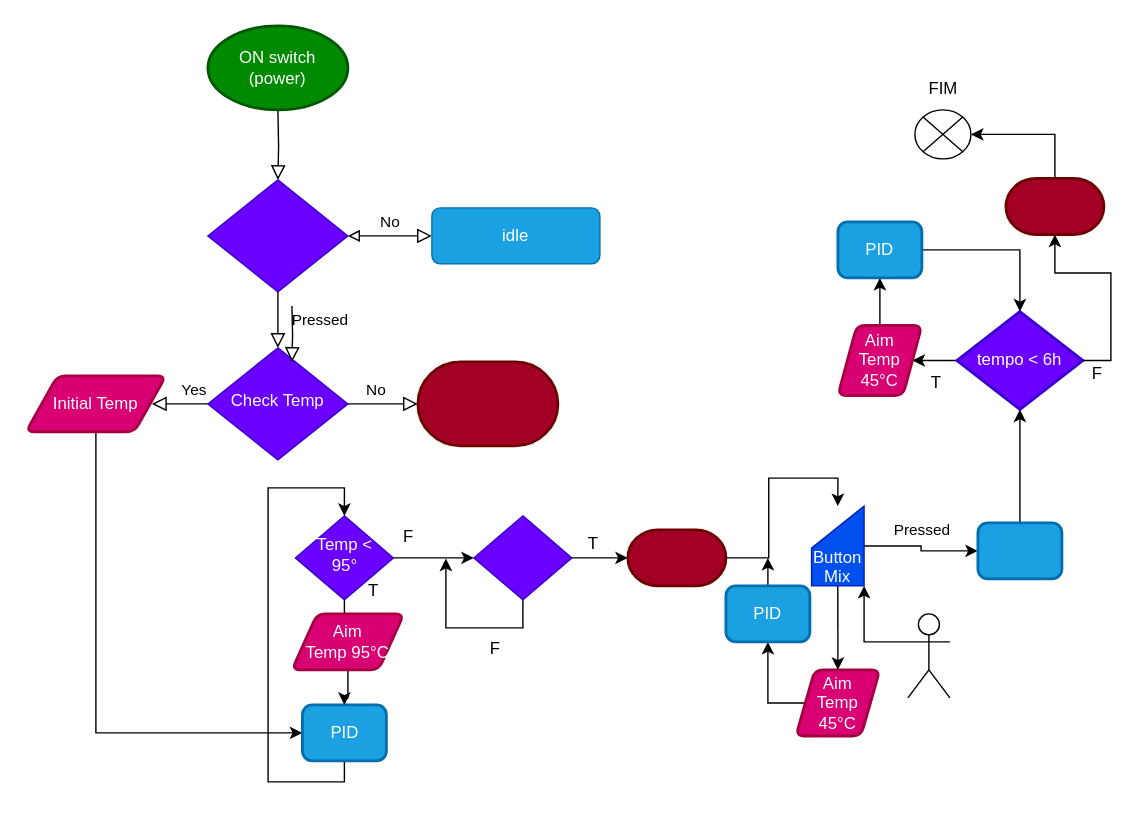
Image size: 1147x818. Some labels were removed from this diagram. Here are the shapes that lost their labels. From the top down, the centre of each, then its label:
At (1054,205): "BUZZER FINAL".
At (277,235): "Start Button interrupt".
At (487,403): "ERROR LED".
At (522,557): "Temp <= 45°".
At (676,557): "BUZZER".
At (1019,550): "Initiate Clock".
At (928,655): "Actor".
